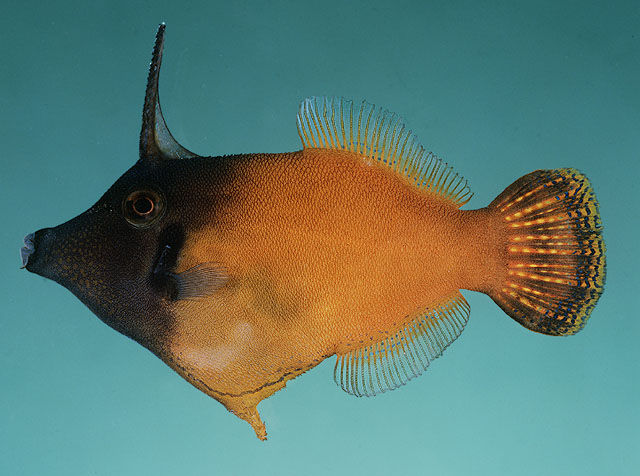fish: (21, 21, 608, 441)
